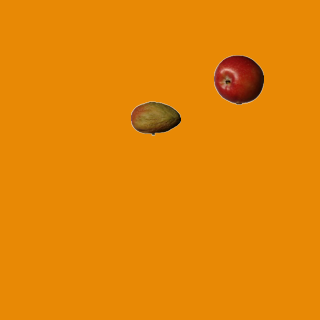Apple Braeburn: (213, 54, 263, 104)
Papaya: (130, 93, 180, 143)
